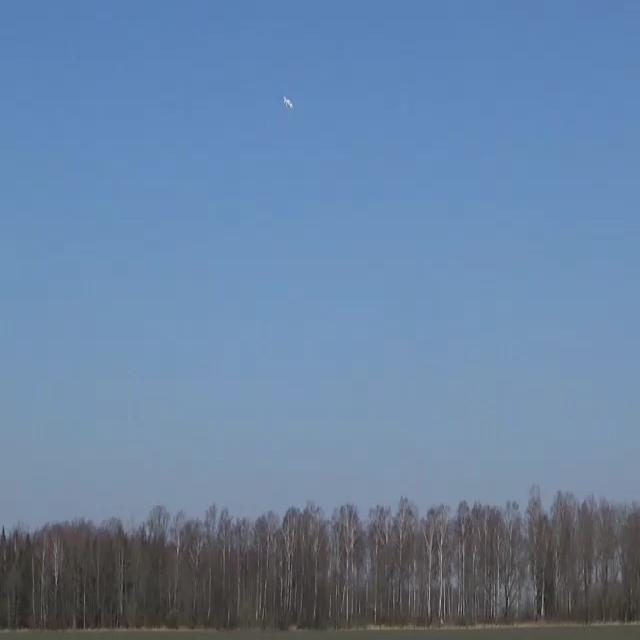Drone: (276, 86, 301, 116)
